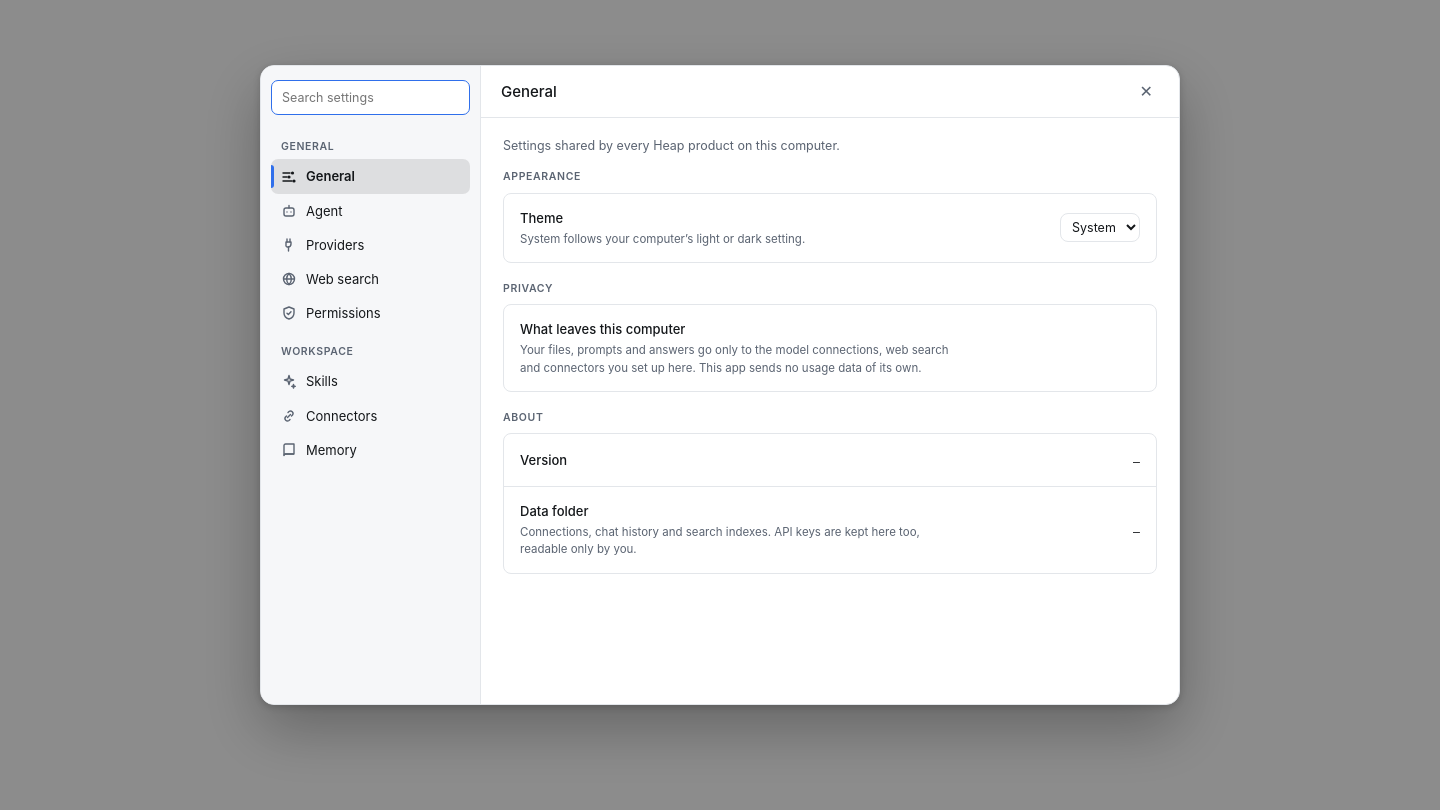
Scenario: the settings dialog › keeps the coding agent’s settings on Agent, not on the shared General page
Expected: the text "Persona" is not shown
Click the button "Agent". click: (370, 211)
box: [271,194,470,228]
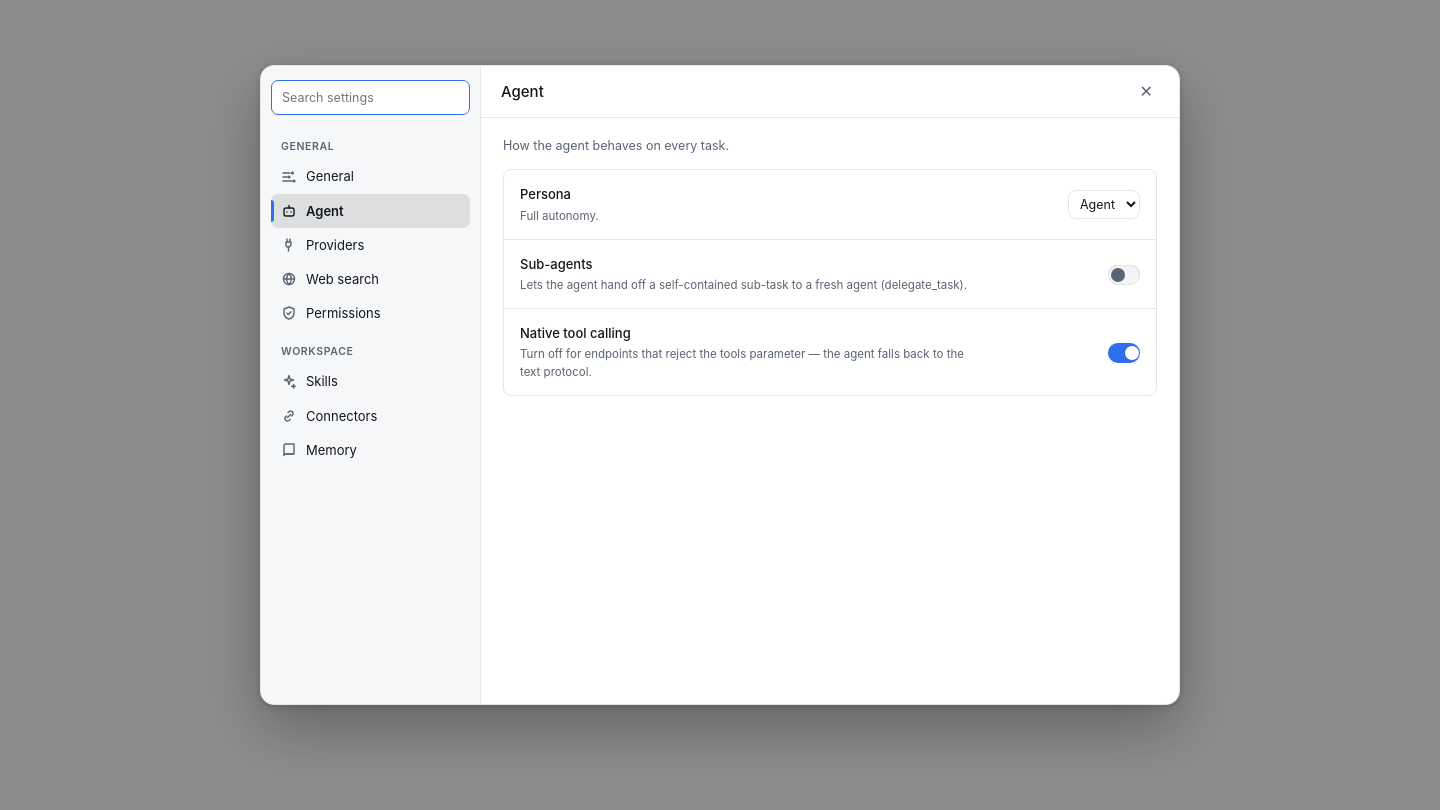
Expected: the text "Persona" is shown, [520,186,571,202]
Expected: the checkbox "Sub-agents" is shown, [520,256,592,272]
Expected: the checkbox "Native tool calling" is shown, [520,325,631,341]
